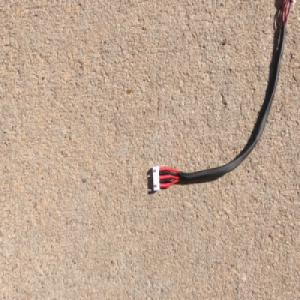Wire: (151, 0, 297, 193)
